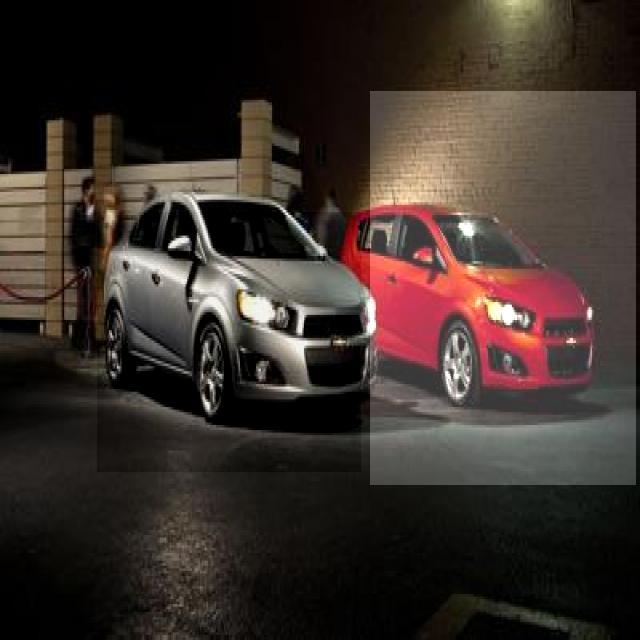Car: (370, 91, 636, 485), (97, 212, 361, 472)
